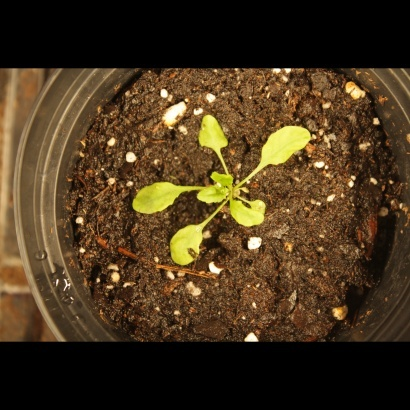leaf: (254, 120, 319, 173), (127, 177, 187, 216), (167, 220, 210, 270), (194, 110, 235, 159), (228, 196, 266, 233), (194, 183, 229, 207), (250, 193, 273, 216), (212, 168, 235, 191)
